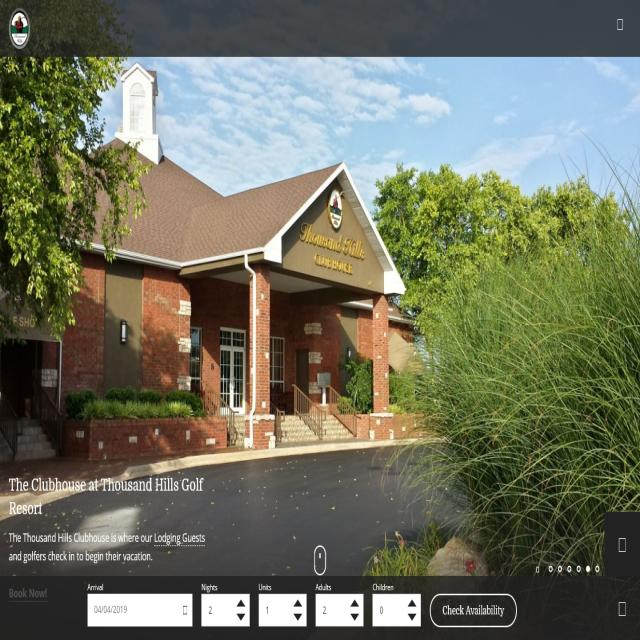button: (431, 590, 516, 630)
field: (88, 593, 193, 627), (373, 594, 421, 627), (260, 594, 307, 627), (201, 593, 249, 625), (317, 595, 362, 628)
heading: (9, 472, 202, 520)
image: (1, 1, 640, 640), (8, 9, 29, 53)
label: (372, 582, 397, 595), (200, 582, 222, 594), (87, 580, 105, 592), (258, 581, 272, 593), (315, 583, 332, 592)
text: (6, 529, 204, 570), (6, 584, 50, 602)
